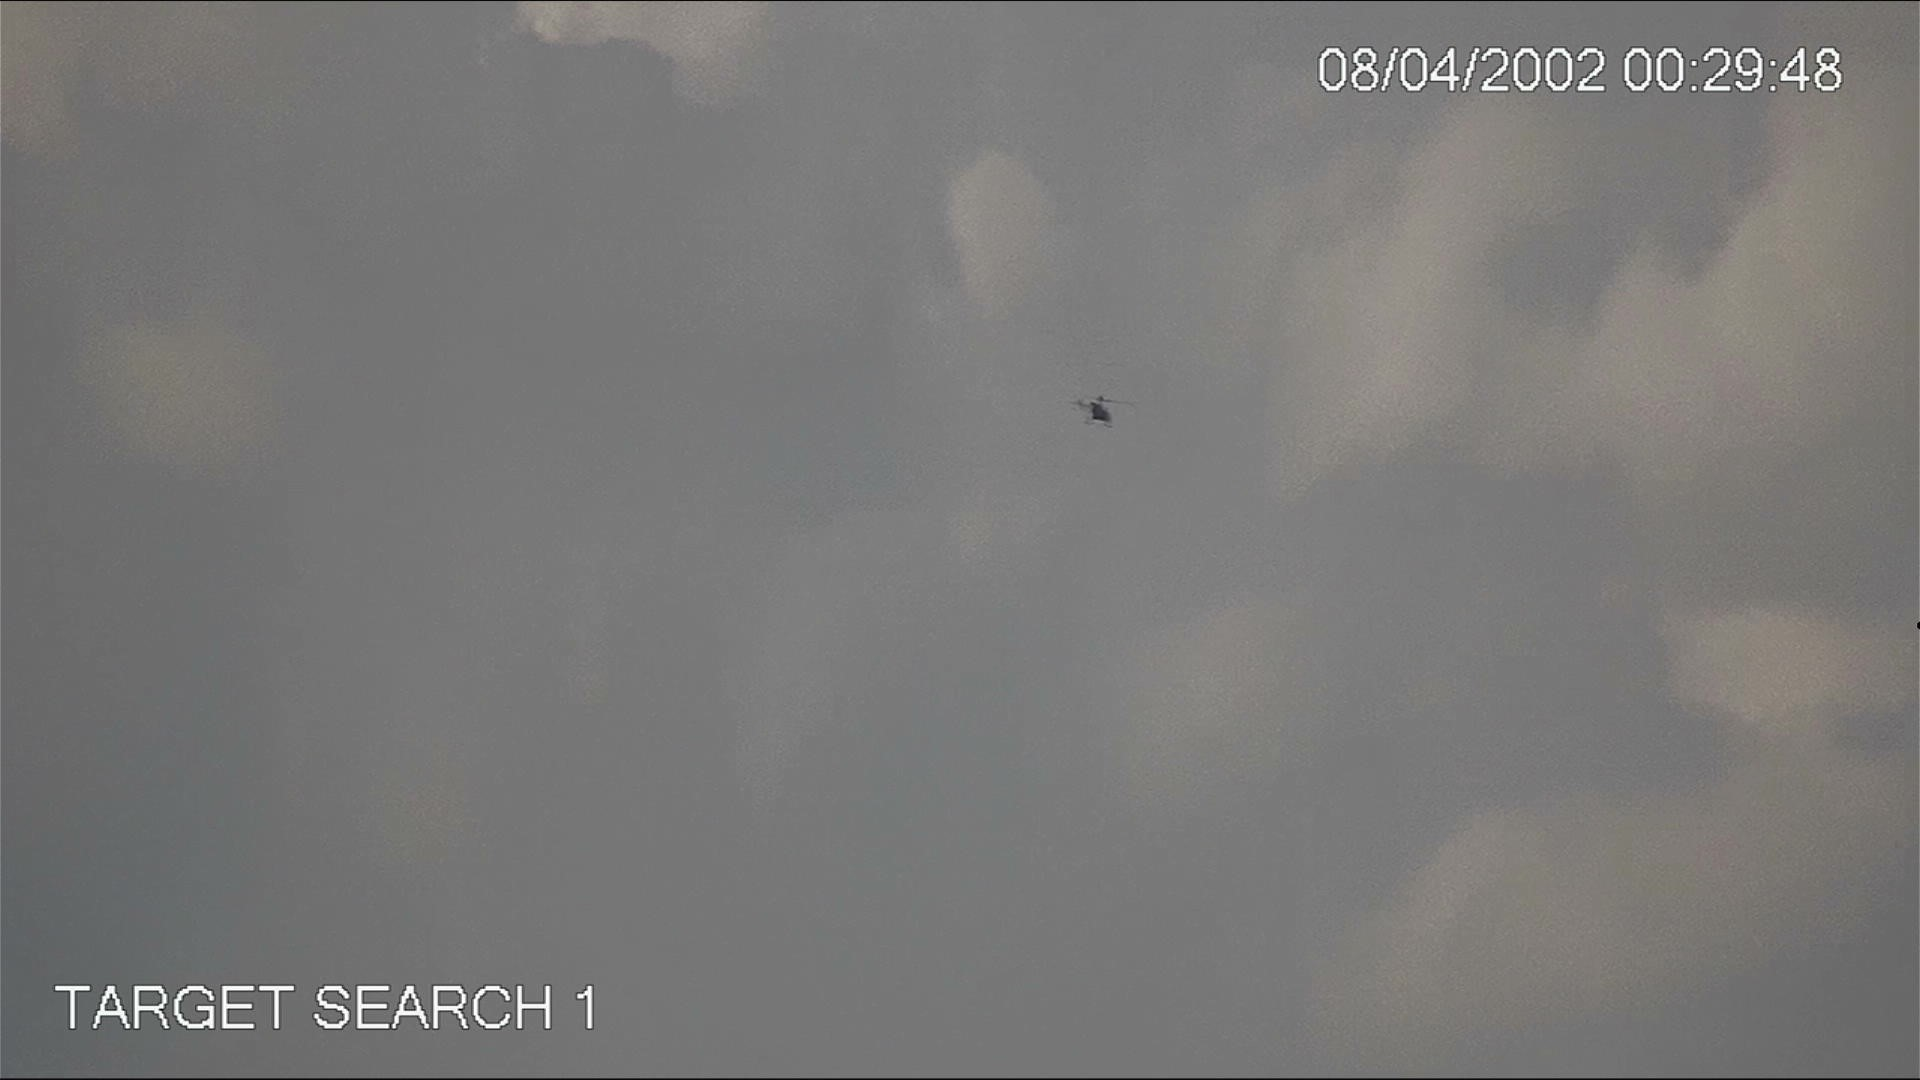SU_30: (1069, 392, 1125, 431)
